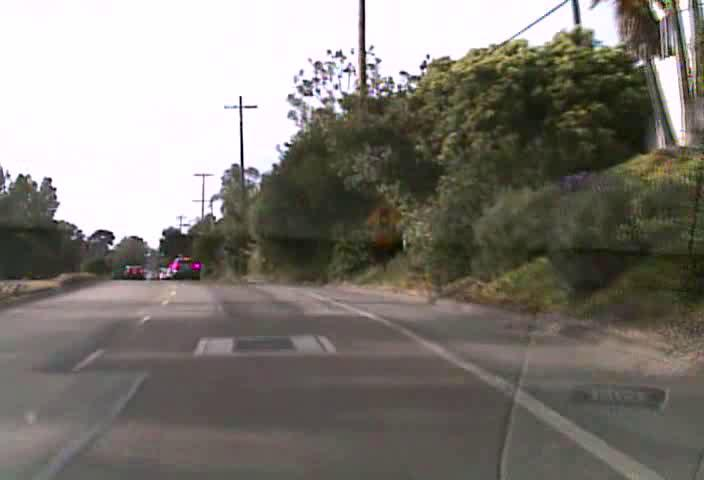signalAhead: (363, 197, 403, 239)
